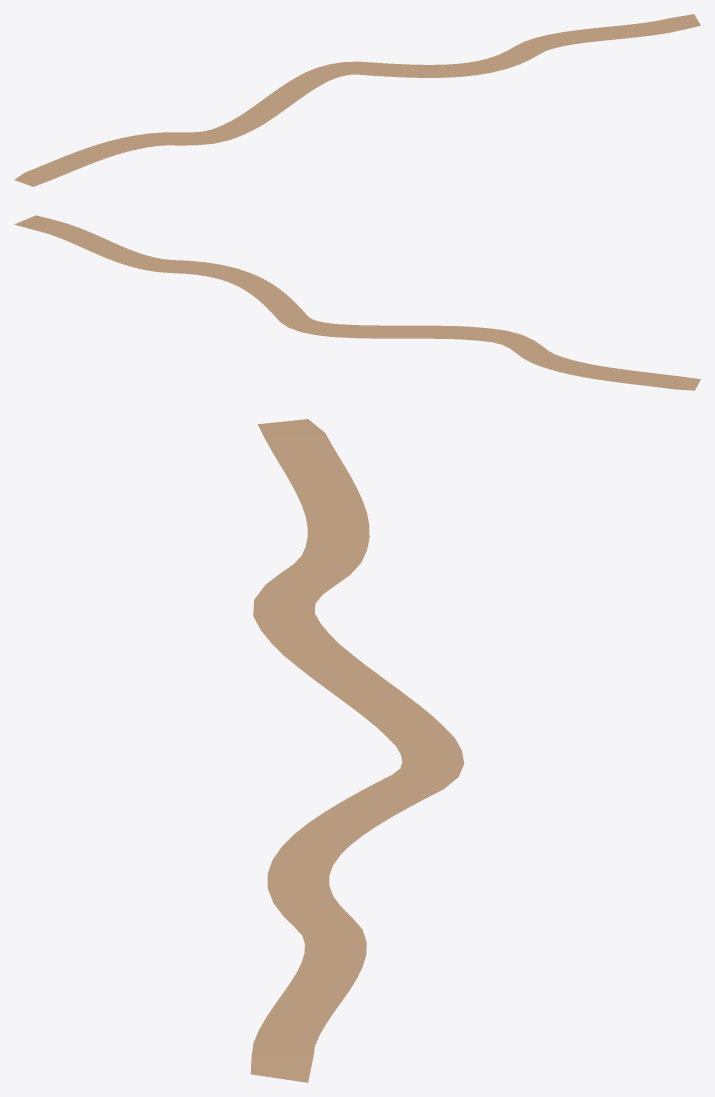
3 views of the same model, one above another, from view 1: azimuth 30°, elevation 25°; view 2: azimuth 150°, elevation 25°; view 3: azimuth 270°, elevation 25° (orthographic). The views are drawn at different scales.
Visible parts, largest first — view 1: Plane; view 2: Plane; view 3: Plane.
Boxes of the visible parts, x1,y1,x2,y2 form: Plane: (14,14,700,186); Plane: (14,215,700,390); Plane: (250,419,464,1082).
Bounding box in the file's own units: 28.89 × 0.0251 × 3.93.
